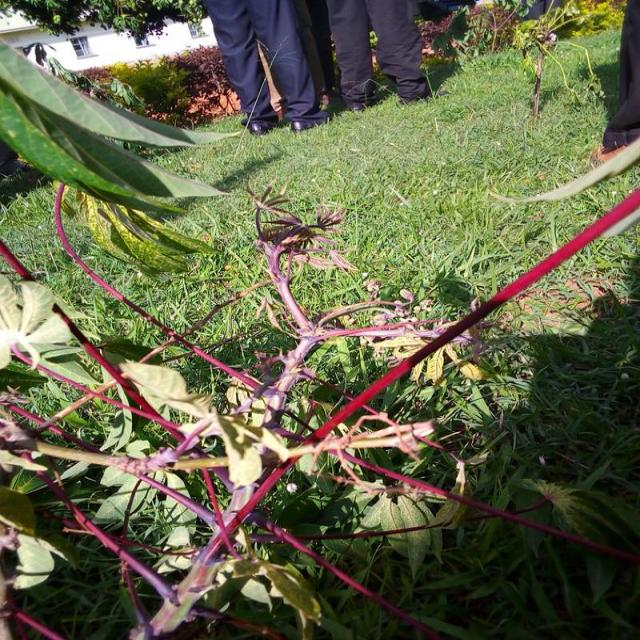cassava leaf: (1, 40, 242, 218)
